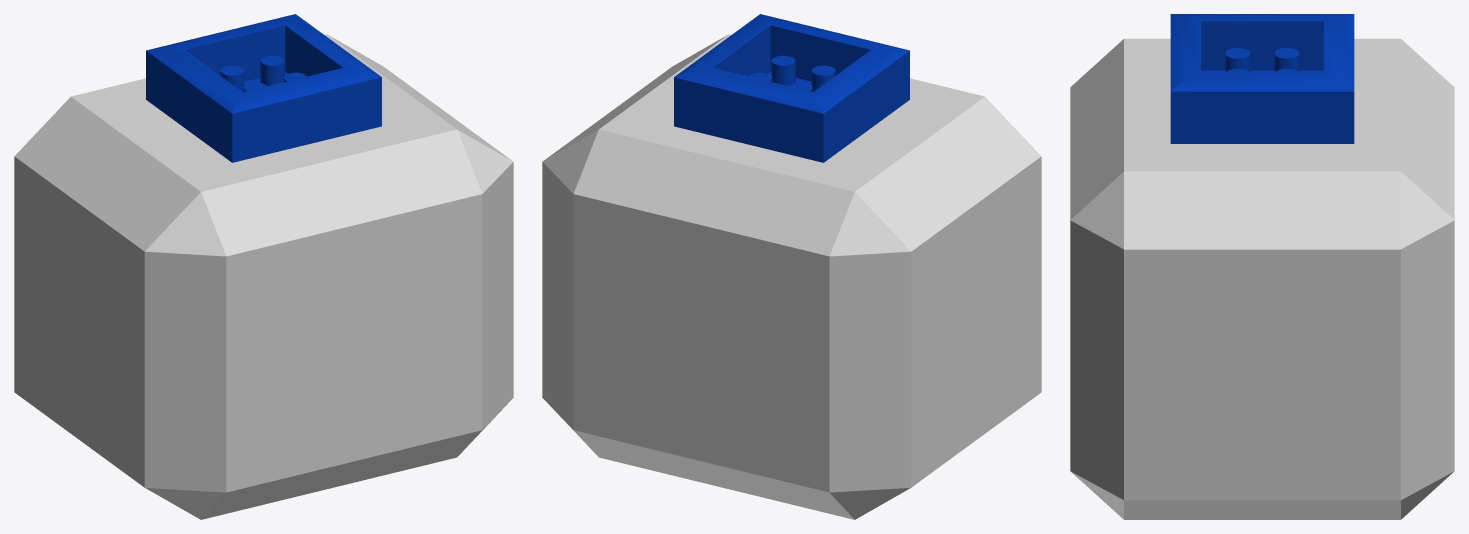
The model's file is SpeedSensor.gltf.
3 renders of one model, left to right at view 1: azimuth 30°, elevation 25°; view 2: azimuth 150°, elevation 25°; view 3: azimuth 270°, elevation 25°, orthographic. The views are drawn at different scales.
Parts seen in each view (by area): view 1: base; view 2: base; view 3: base.
Part boxes in pixels (bbox=[...]): base: bbox=[14, 14, 513, 519]; base: bbox=[542, 14, 1041, 519]; base: bbox=[1070, 14, 1454, 519].
Bounding box in the file's own units: 0.1471 × 0.1456 × 0.125.
